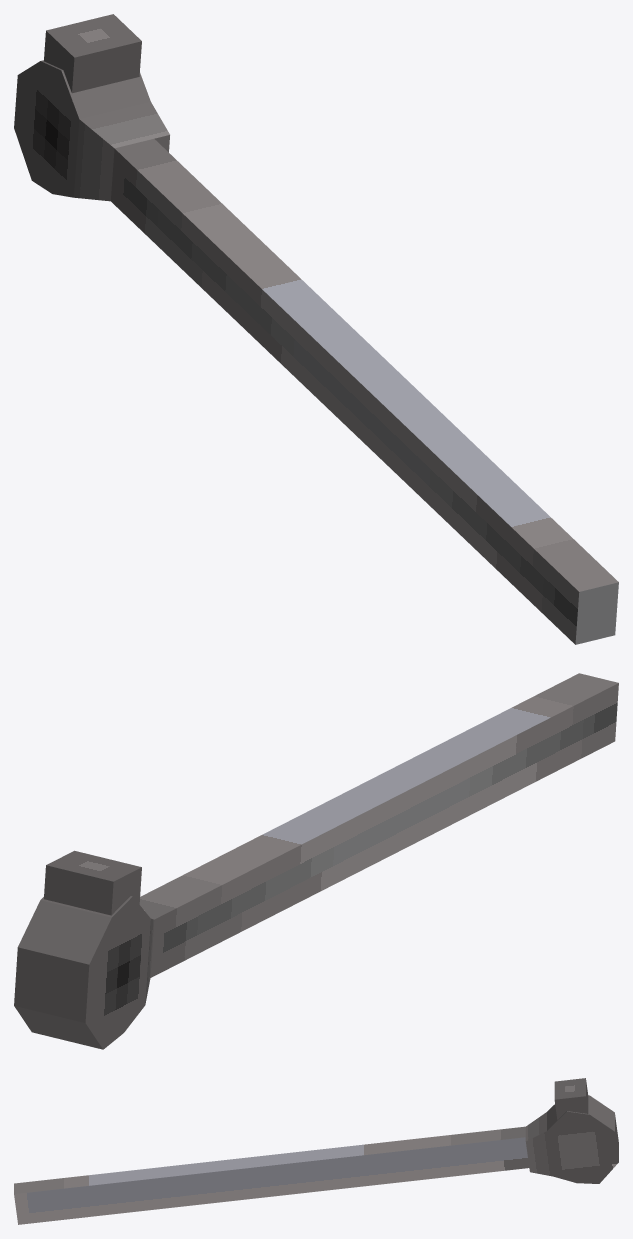
Rendered from crank.obj.
3 renders of one model, top to bottom at view 1: azimuth 30°, elevation 25°; view 2: azimuth 150°, elevation 25°; view 3: azimuth 270°, elevation 25°, orthographic. The views are drawn at different scales.
Parts seen in each view (by area): view 1: 曲柄; view 2: 曲柄; view 3: 曲柄.
Boxes of the visible parts, x1,y1,x2,y2 form: 曲柄: [14, 14, 618, 644]; 曲柄: [14, 673, 618, 1049]; 曲柄: [14, 1078, 618, 1224].
Size of the model in its own units: 0.225 by 0.7226 by 2.99.
